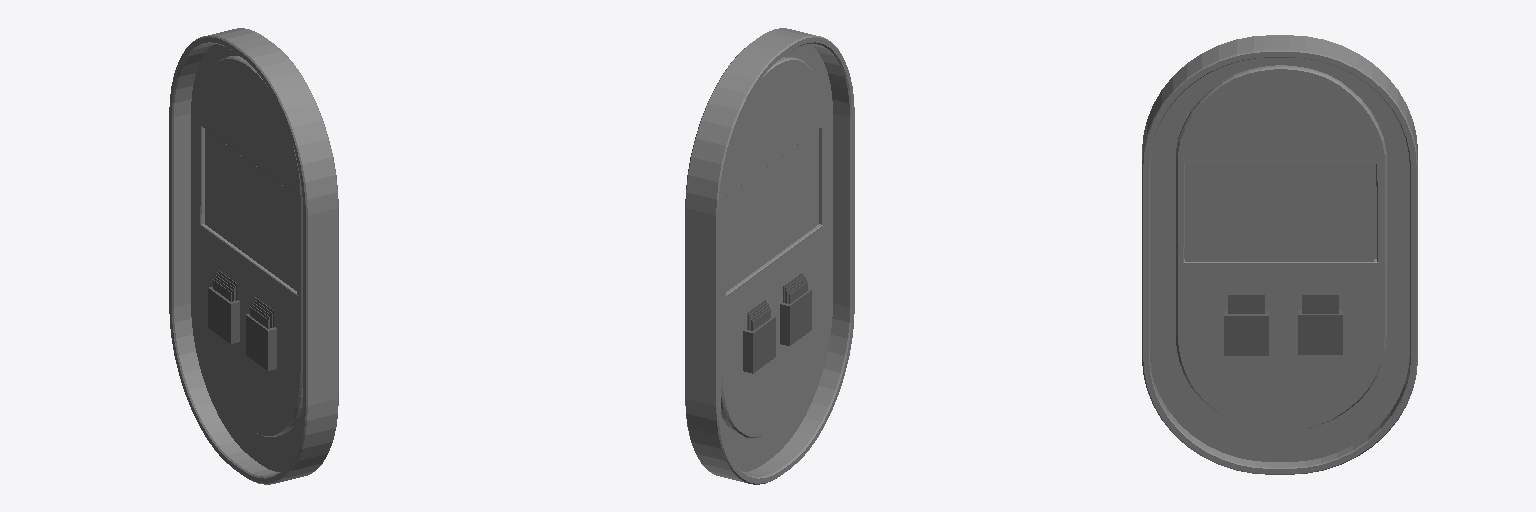
Rendered from StandScreen.obj.
3 views of the same model, side by side, from view 1: azimuth 30°, elevation 25°; view 2: azimuth 150°, elevation 25°; view 3: azimuth 270°, elevation 25° (orthographic).
Parts seen in each view (by area): view 1: MainBodyMed4, Screen3, Box002; view 2: MainBodyMed4, Screen3, Box002; view 3: MainBodyMed4, Screen3, Box001.
Part boxes in pixels (bbox=[...]): MainBodyMed4: bbox=[169, 28, 338, 484]; Screen3: bbox=[205, 129, 296, 290]; Box002: bbox=[208, 270, 276, 370]; MainBodyMed4: bbox=[685, 28, 854, 484]; Screen3: bbox=[726, 129, 818, 291]; Box002: bbox=[743, 273, 811, 373]; MainBodyMed4: bbox=[1142, 35, 1417, 474]; Screen3: bbox=[1185, 164, 1373, 261]; Box001: bbox=[1224, 295, 1342, 355].
Bounding box in the file's own units: 1.26 × 13.85 × 8.16.